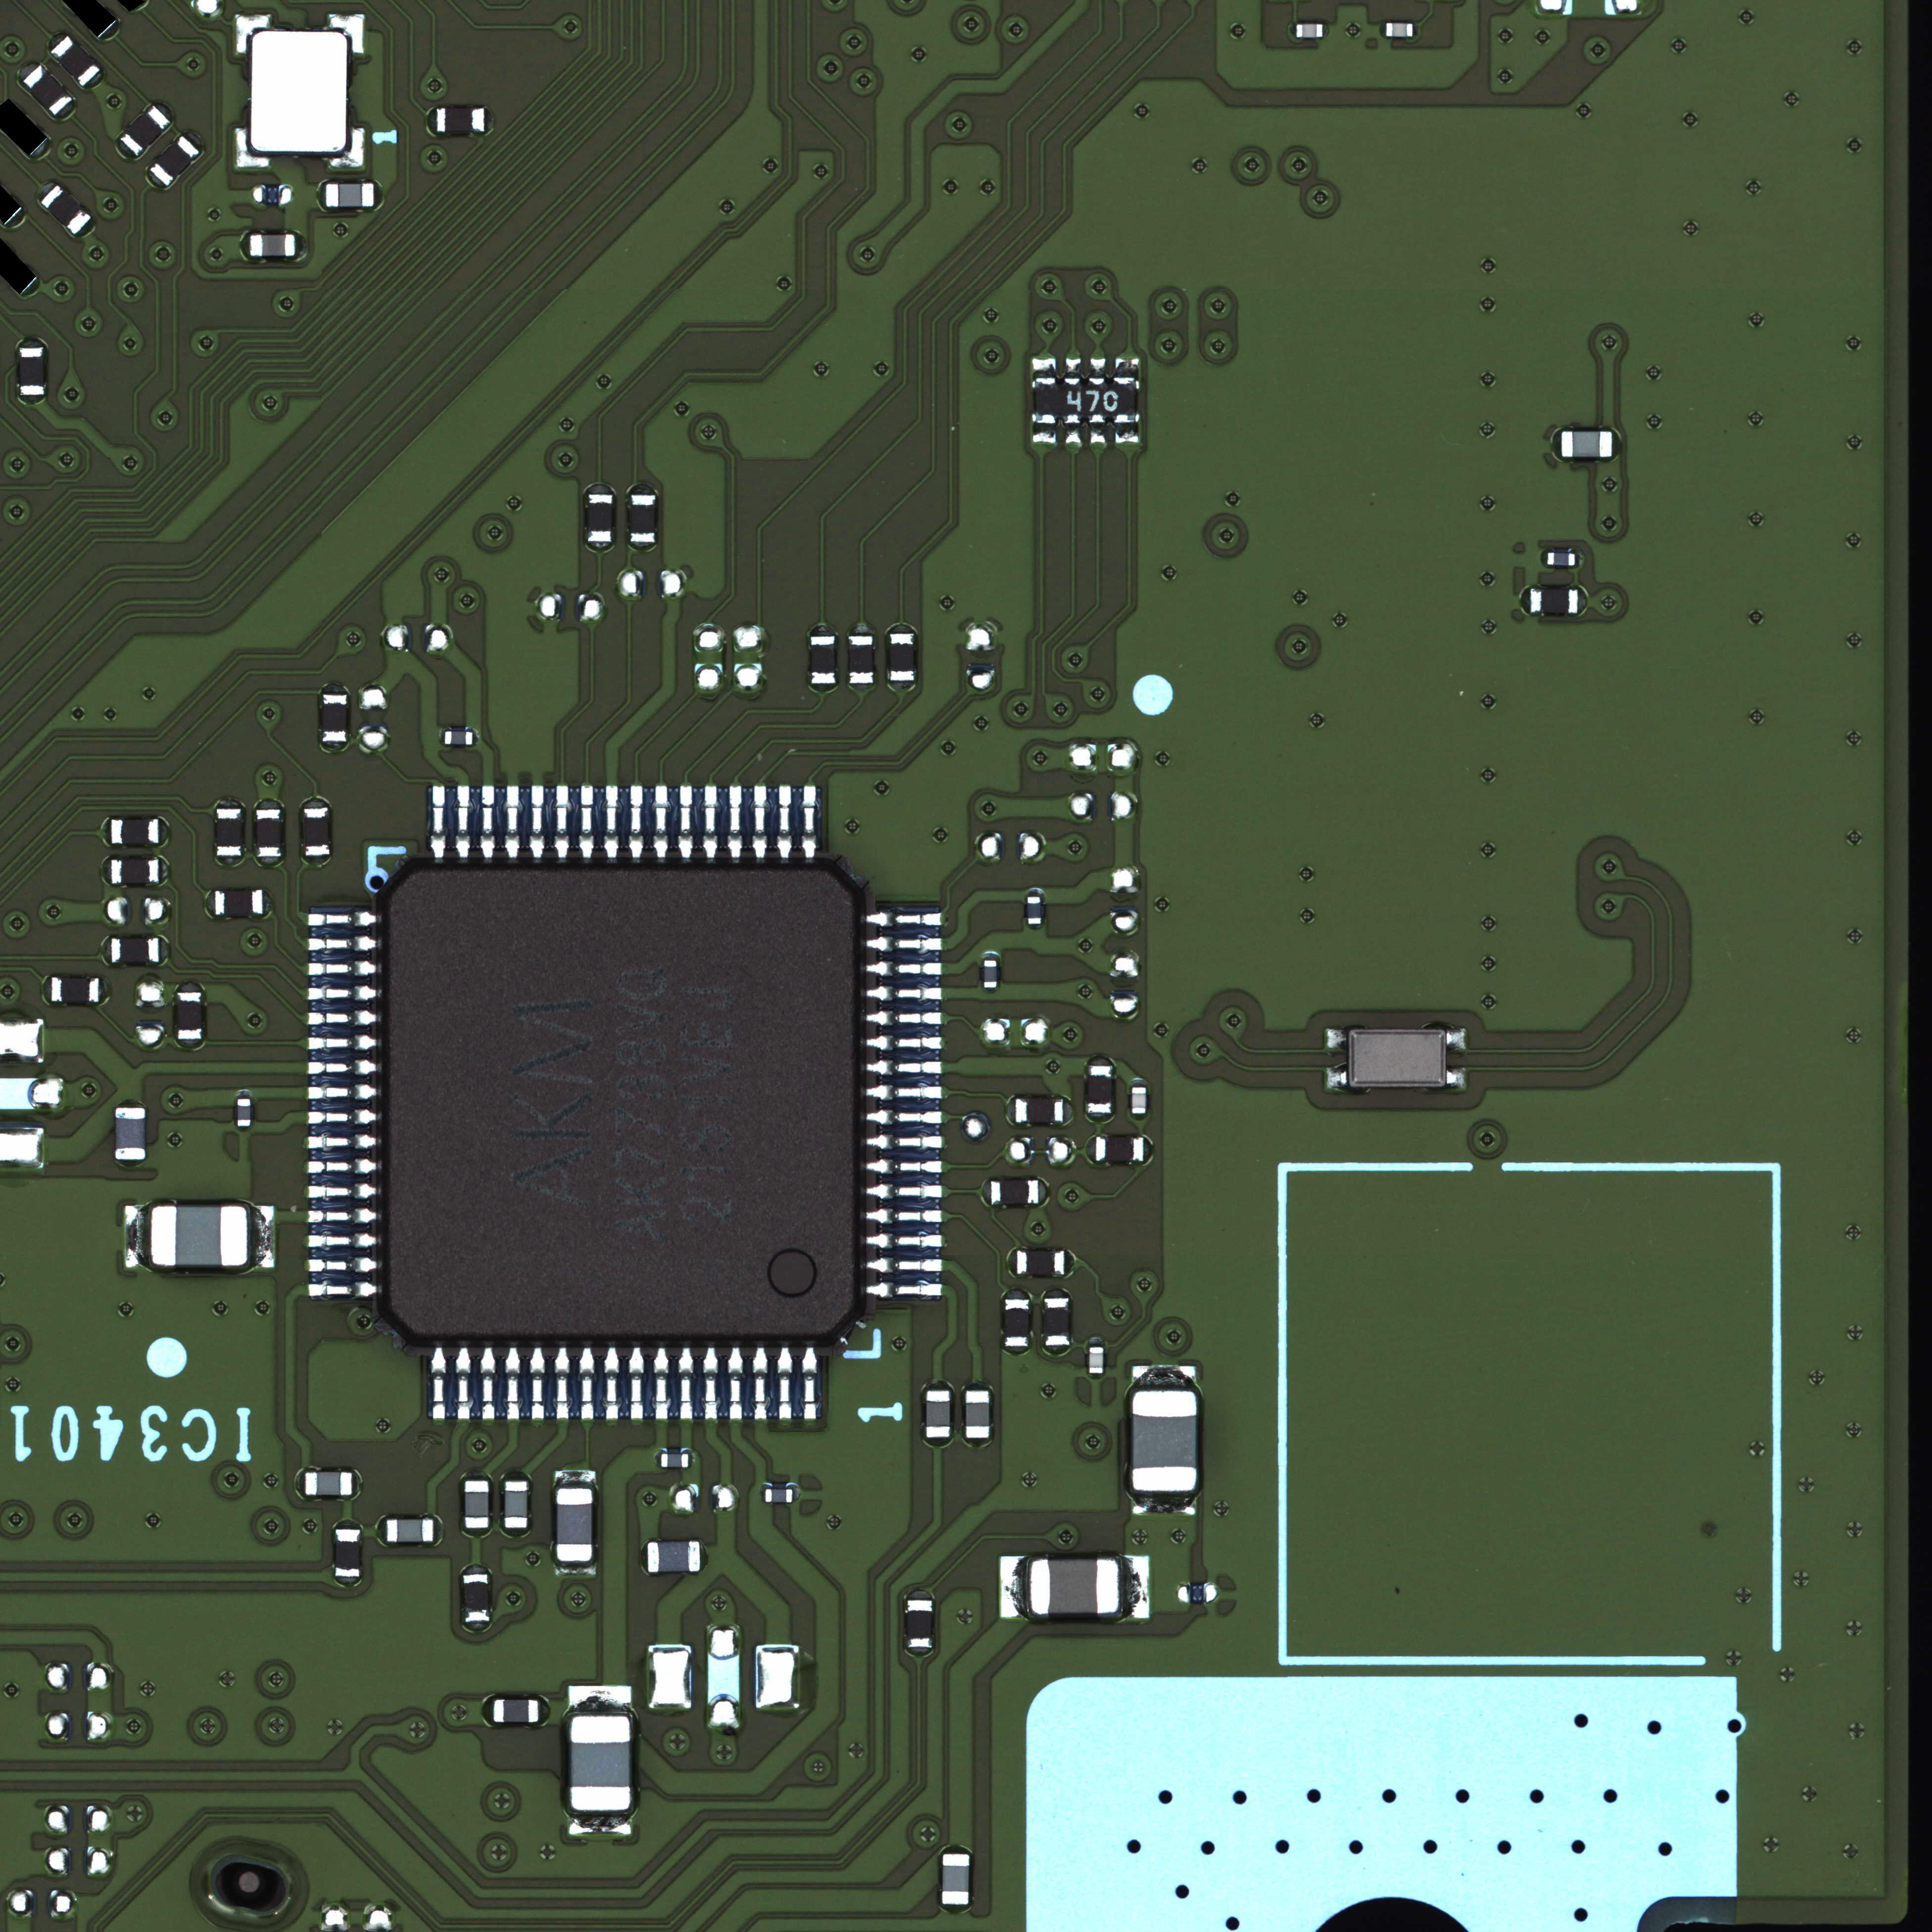Package: (382, 865, 862, 1345), (248, 30, 349, 152), (1132, 1391, 1198, 1491), (570, 1714, 632, 1812), (149, 1207, 248, 1267), (1348, 1030, 1445, 1086), (1030, 1559, 1120, 1615), (1035, 377, 1136, 423), (39, 184, 92, 235), (149, 134, 200, 188), (50, 35, 101, 87), (120, 104, 172, 156), (23, 64, 73, 117), (557, 1488, 591, 1560), (648, 1541, 701, 1573), (115, 1108, 145, 1161), (941, 1854, 970, 1905), (303, 807, 331, 856), (586, 494, 614, 543), (214, 888, 264, 916), (1560, 432, 1612, 458), (320, 694, 349, 741), (1044, 1297, 1070, 1346), (1095, 1136, 1145, 1162), (464, 1573, 490, 1622), (888, 633, 915, 681), (906, 1599, 932, 1647), (216, 809, 242, 856), (630, 495, 656, 543), (464, 1481, 490, 1529), (51, 977, 99, 1003), (111, 858, 159, 885), (847, 635, 874, 683), (1530, 587, 1578, 614), (810, 635, 835, 685), (1088, 1065, 1113, 1115), (1016, 1251, 1065, 1276), (326, 182, 375, 207), (334, 1529, 359, 1576), (19, 347, 44, 395), (991, 1180, 1039, 1205), (111, 819, 159, 844), (111, 938, 159, 962), (1016, 1099, 1063, 1123), (177, 993, 202, 1040), (257, 810, 281, 858), (386, 1518, 433, 1543), (437, 108, 485, 133), (504, 1481, 527, 1529), (1005, 1299, 1028, 1346), (927, 1391, 950, 1438), (966, 1391, 989, 1438), (304, 1472, 352, 1495), (494, 1698, 538, 1723), (249, 234, 295, 257), (660, 1453, 688, 1468), (1090, 1346, 1104, 1375), (1132, 1086, 1146, 1115), (1546, 552, 1575, 566), (237, 1099, 251, 1127), (984, 959, 998, 987), (764, 1488, 793, 1502), (444, 731, 472, 745), (1295, 23, 1323, 37), (1385, 23, 1414, 37), (1028, 897, 1042, 924)
Solder: (1120, 1555, 1150, 1619), (1000, 1555, 1030, 1619), (568, 1686, 632, 1714), (248, 1205, 274, 1269), (327, 127, 366, 168), (124, 1205, 149, 1269), (235, 12, 272, 55), (1132, 1366, 1196, 1391), (865, 1083, 943, 1102), (327, 14, 364, 55), (235, 127, 271, 170), (725, 784, 745, 860), (800, 784, 819, 860), (750, 784, 770, 860), (775, 784, 794, 860), (568, 1812, 632, 1835), (863, 1184, 945, 1201), (863, 1134, 945, 1152), (865, 1109, 945, 1127), (865, 911, 945, 929), (865, 1058, 943, 1076), (865, 936, 943, 954), (865, 985, 943, 1003), (1132, 1493, 1196, 1514), (676, 784, 694, 860), (701, 784, 718, 860), (455, 784, 472, 860), (579, 1346, 596, 1421), (430, 786, 448, 860), (430, 1346, 448, 1421), (863, 1208, 945, 1224), (863, 1233, 945, 1249), (863, 1159, 945, 1175), (306, 1157, 379, 1175), (306, 1207, 379, 1224), (701, 1346, 718, 1419), (306, 1182, 379, 1200), (306, 1008, 379, 1026), (306, 959, 379, 977), (865, 1258, 945, 1274), (865, 1283, 945, 1299), (308, 1256, 379, 1274), (308, 1109, 379, 1127), (308, 1083, 379, 1100), (554, 784, 570, 862), (628, 784, 644, 862), (865, 961, 943, 977), (308, 1033, 377, 1051), (308, 909, 377, 927), (651, 784, 667, 860), (504, 784, 520, 860), (479, 784, 495, 860), (603, 1346, 619, 1421), (579, 786, 594, 860), (529, 1346, 545, 1421), (603, 786, 619, 860), (628, 1346, 644, 1419), (653, 1346, 669, 1419), (455, 1346, 471, 1419), (678, 1346, 694, 1419), (479, 1346, 495, 1419), (306, 1134, 379, 1150), (727, 1346, 743, 1419), (306, 1060, 379, 1076), (306, 985, 379, 1001), (801, 1346, 817, 1419), (752, 1346, 768, 1419), (777, 1346, 793, 1419), (554, 1348, 570, 1419), (308, 1233, 379, 1249), (308, 1281, 379, 1297), (865, 1037, 943, 1051), (865, 1012, 943, 1026), (308, 936, 377, 952), (529, 786, 543, 862), (506, 1346, 520, 1421), (554, 1470, 596, 1488), (14, 55, 41, 83), (180, 126, 209, 152), (111, 138, 138, 165), (53, 99, 81, 124), (74, 216, 99, 242), (142, 168, 168, 193), (42, 27, 67, 51), (32, 177, 57, 202), (154, 97, 179, 122), (5, 209, 30, 234), (30, 138, 55, 163), (99, 19, 124, 44), (556, 1562, 596, 1576), (83, 71, 108, 94), (21, 276, 44, 301), (1115, 425, 1139, 444), (1031, 425, 1056, 444), (1031, 357, 1056, 377), (1115, 357, 1139, 377), (538, 1695, 552, 1729), (1327, 1067, 1348, 1088), (1445, 1067, 1467, 1088), (1327, 1028, 1348, 1049), (479, 1693, 492, 1727), (1447, 1028, 1467, 1049), (295, 230, 308, 262), (99, 934, 111, 966), (961, 1378, 993, 1391), (460, 1468, 492, 1481), (320, 741, 350, 754), (237, 230, 249, 260), (846, 623, 876, 635), (214, 856, 244, 869), (39, 975, 51, 1005), (159, 856, 172, 886), (1612, 428, 1622, 462), (460, 1529, 494, 1539), (888, 681, 916, 694), (1088, 425, 1106, 444), (1065, 425, 1083, 444), (626, 483, 658, 494), (173, 980, 205, 991), (499, 1470, 531, 1481), (253, 798, 285, 809), (961, 1438, 993, 1449), (318, 683, 350, 694), (315, 179, 326, 211), (922, 1378, 954, 1389), (460, 1622, 492, 1633), (1086, 1053, 1113, 1065), (639, 1539, 648, 1576), (214, 798, 244, 809), (301, 796, 331, 807), (1039, 1178, 1049, 1208), (175, 1040, 205, 1051), (1001, 1288, 1031, 1299), (159, 936, 170, 966), (99, 977, 110, 1007), (255, 858, 285, 869), (333, 1518, 363, 1529), (375, 180, 386, 211), (886, 623, 916, 633), (1001, 1346, 1031, 1357), (1042, 1286, 1072, 1297), (460, 1562, 490, 1573), (375, 1516, 386, 1546), (352, 1468, 363, 1499), (159, 817, 170, 847), (1552, 426, 1560, 462), (1065, 357, 1081, 377), (1090, 357, 1106, 377), (586, 483, 614, 494), (18, 336, 46, 347), (809, 625, 837, 635), (1063, 1097, 1074, 1125), (1042, 1346, 1070, 1357), (18, 395, 46, 405), (586, 543, 614, 554), (303, 856, 331, 867), (264, 890, 274, 918), (113, 1099, 147, 1108), (938, 1905, 971, 1914), (701, 1541, 709, 1575), (1065, 1249, 1076, 1276), (922, 1438, 954, 1447), (1578, 587, 1589, 614), (485, 108, 495, 134), (906, 1589, 932, 1599), (939, 1844, 971, 1852), (435, 1514, 444, 1546), (295, 1468, 304, 1500), (1520, 586, 1529, 616), (809, 685, 839, 694), (426, 106, 435, 136), (1007, 1247, 1016, 1277), (501, 1529, 531, 1537), (101, 856, 110, 886), (1086, 1115, 1115, 1123), (628, 543, 656, 552), (205, 890, 214, 918), (1005, 1097, 1014, 1125), (1145, 1136, 1154, 1164), (1086, 1136, 1095, 1164), (980, 1178, 989, 1207), (334, 1578, 363, 1587), (101, 817, 110, 846), (906, 1647, 932, 1656), (115, 1161, 145, 1168), (234, 1088, 253, 1099), (847, 685, 876, 692), (980, 950, 1001, 959), (1129, 1077, 1148, 1086), (793, 1484, 801, 1502), (1539, 548, 1546, 570), (472, 727, 479, 747), (437, 727, 444, 747), (1026, 888, 1046, 895), (1129, 1115, 1148, 1122), (653, 1449, 660, 1468), (1378, 21, 1385, 39), (982, 987, 1000, 994), (1088, 1338, 1102, 1346), (1323, 23, 1330, 39), (1576, 548, 1582, 570), (690, 1449, 695, 1468), (1290, 21, 1295, 39), (1414, 23, 1419, 41), (235, 1127, 253, 1132), (1026, 925, 1044, 931), (759, 1483, 764, 1500), (1088, 1375, 1104, 1380)
